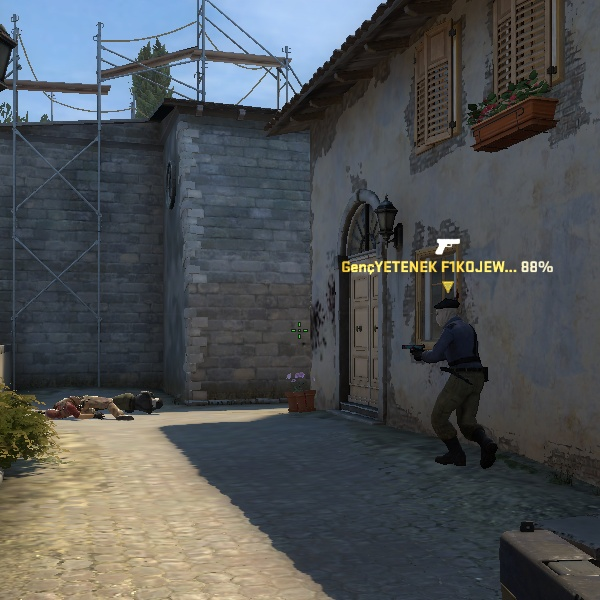t_body: (394, 294, 511, 472)
